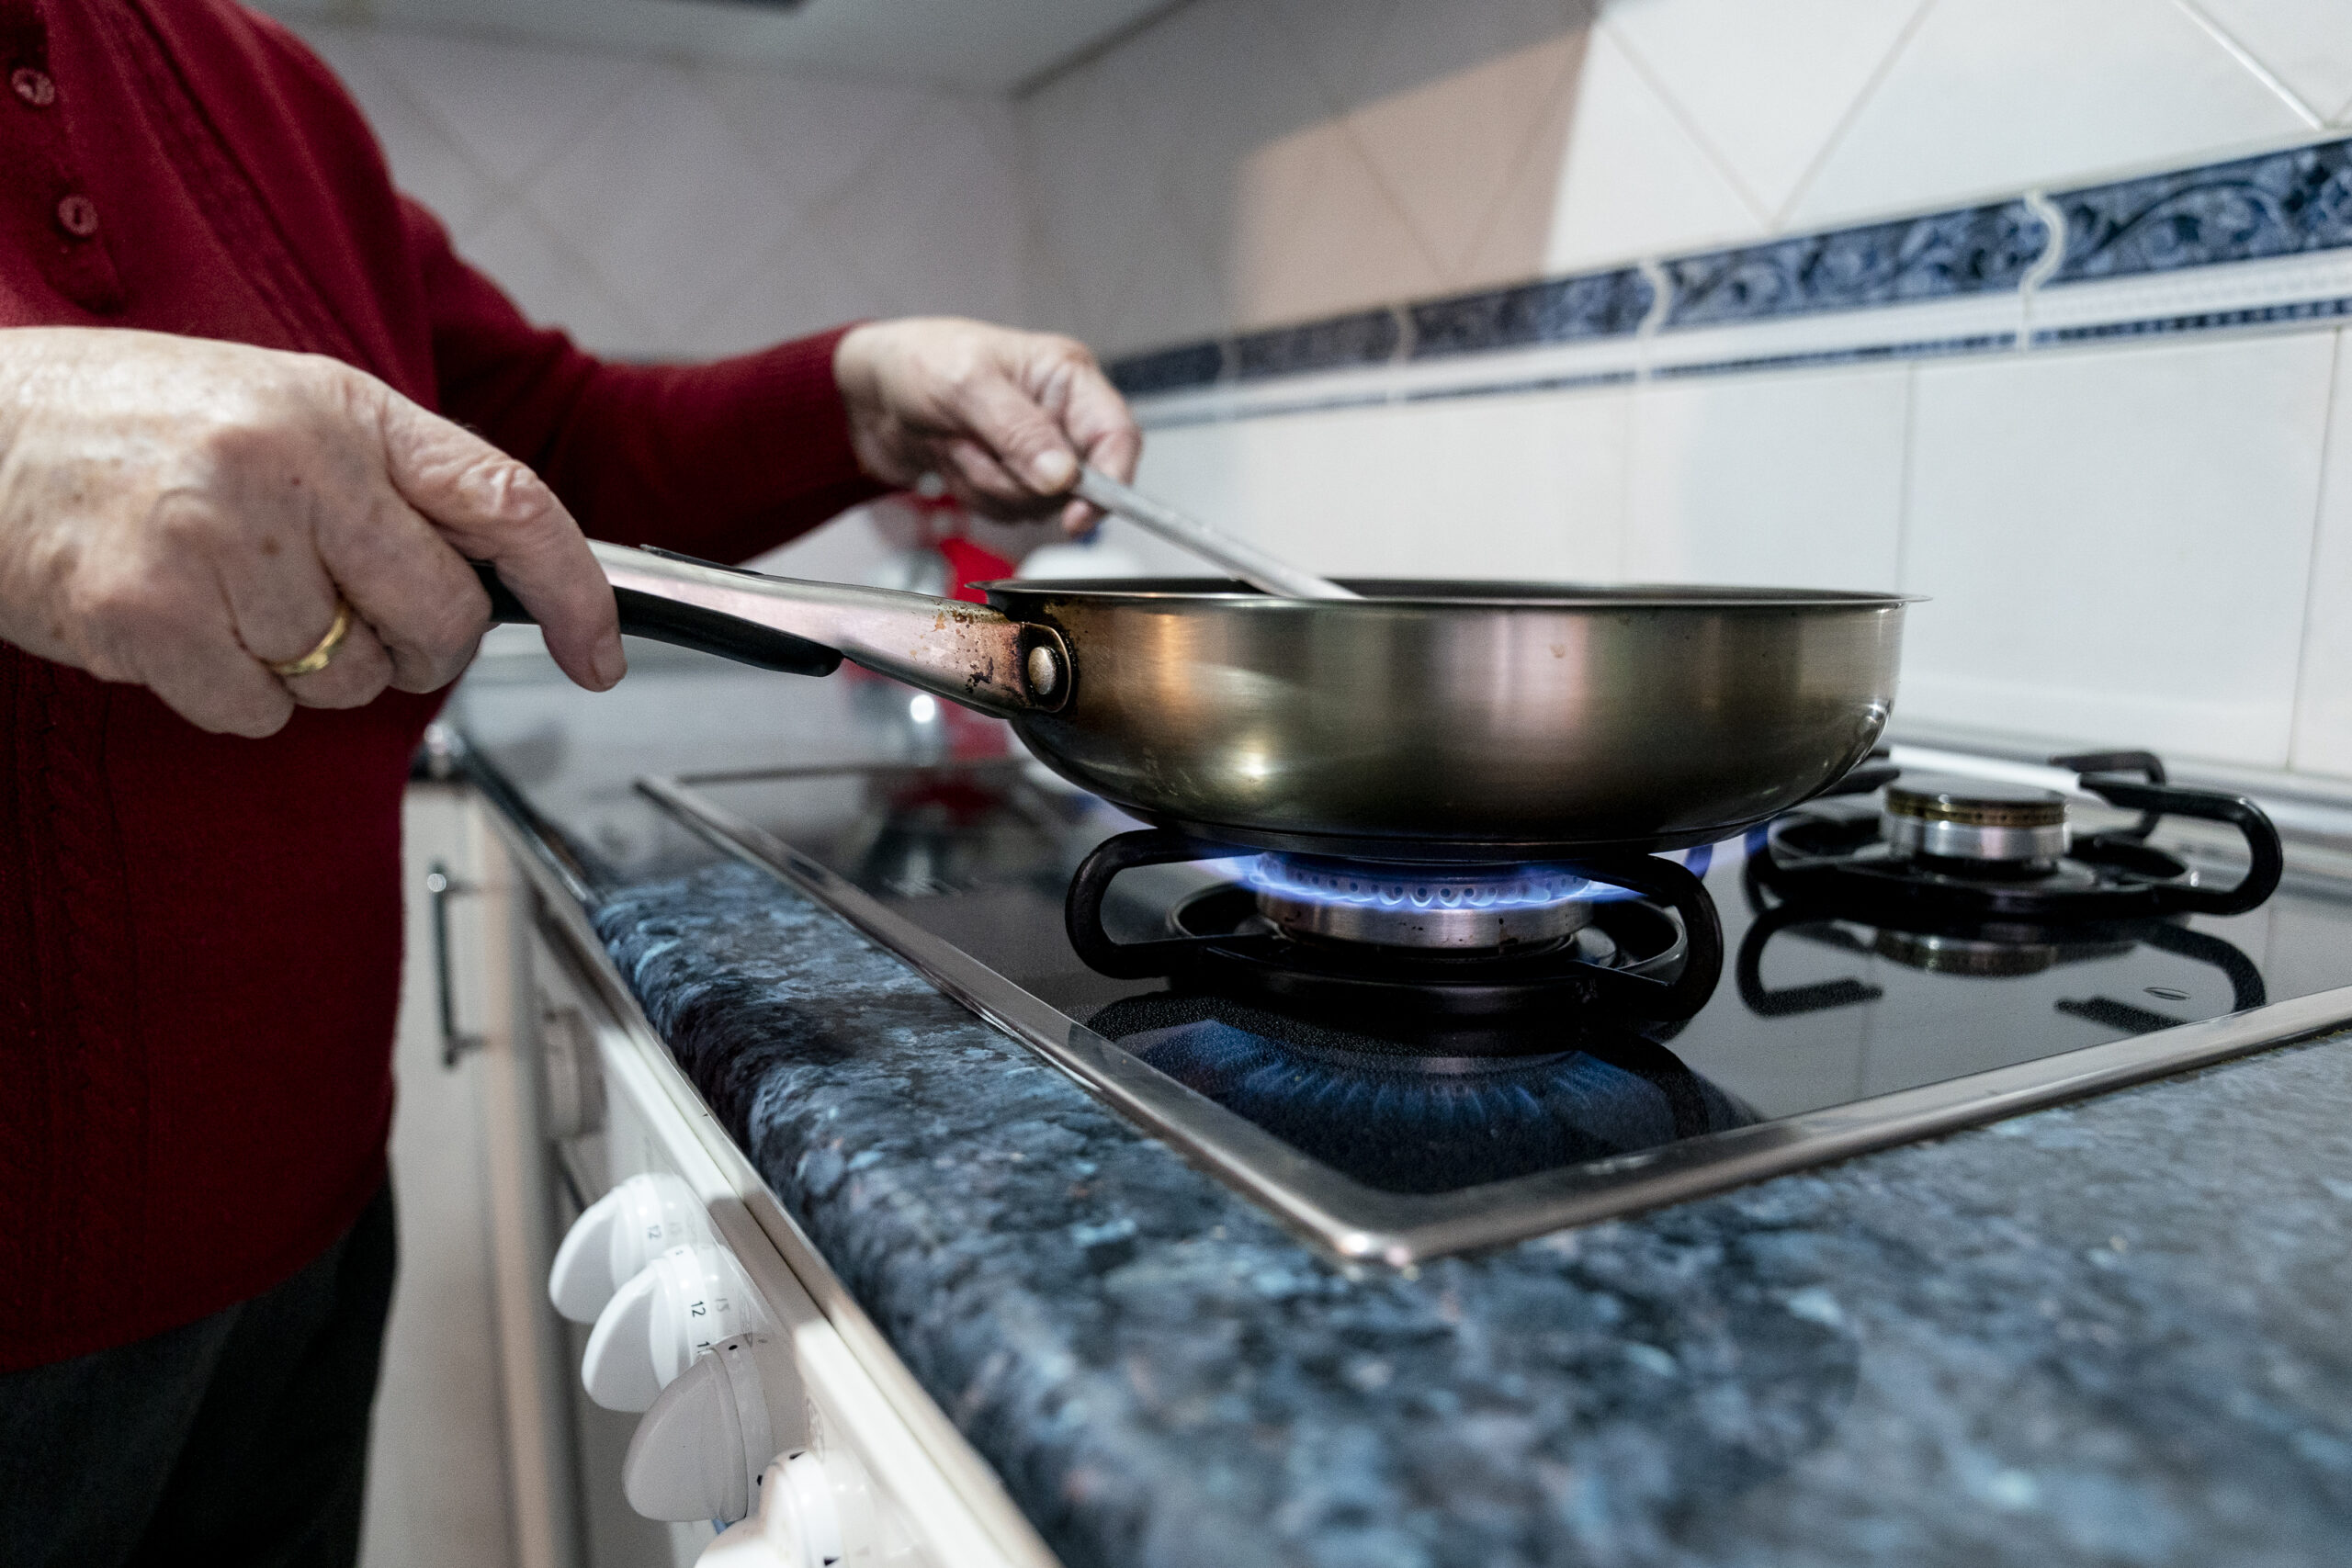stove: (670, 761, 2352, 1314)
